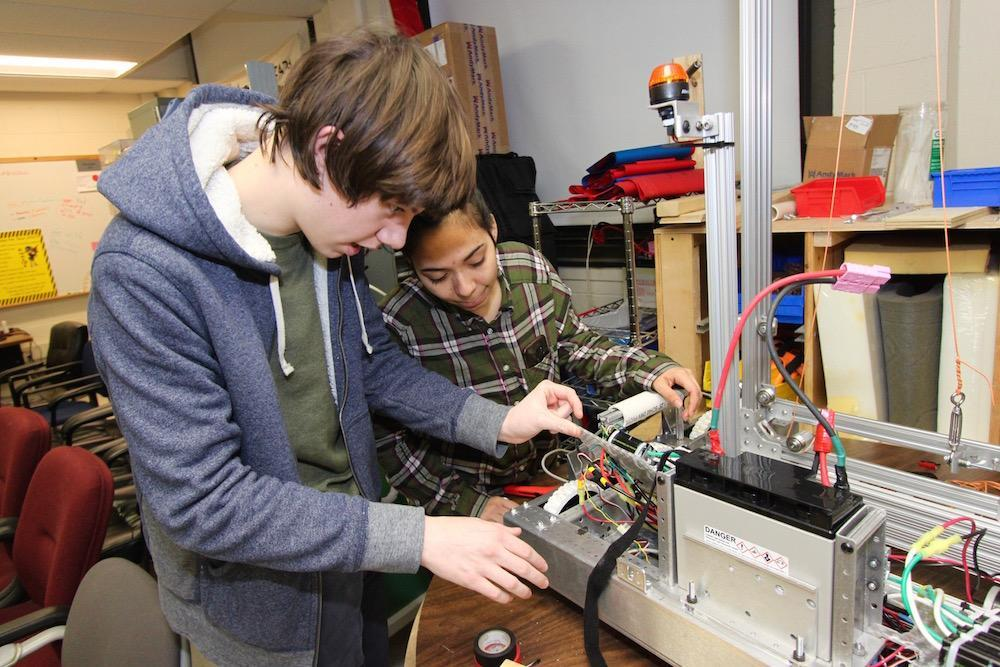robot: (501, 0, 1000, 667)
